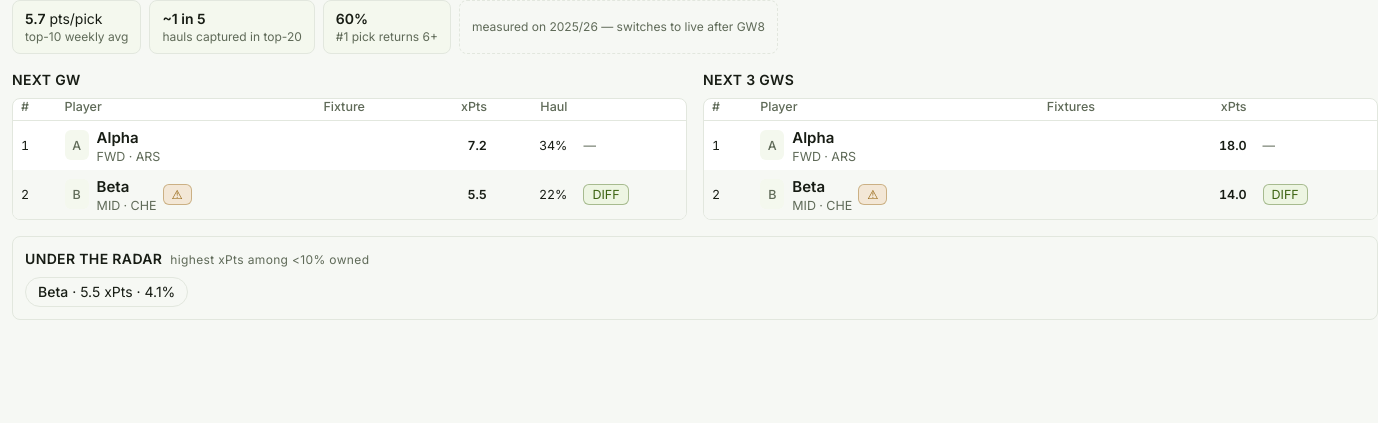
Test: WeeklyPicksTab — PICK-02 expand explains › expanded row in Next GW table contains the PickExplain block (reasons visible)
This screenshot has width=1378, height=423.
// Click the first occurrence (Next GW table)
Click the text "Alpha" at (118, 138), box [13,120,686,170]
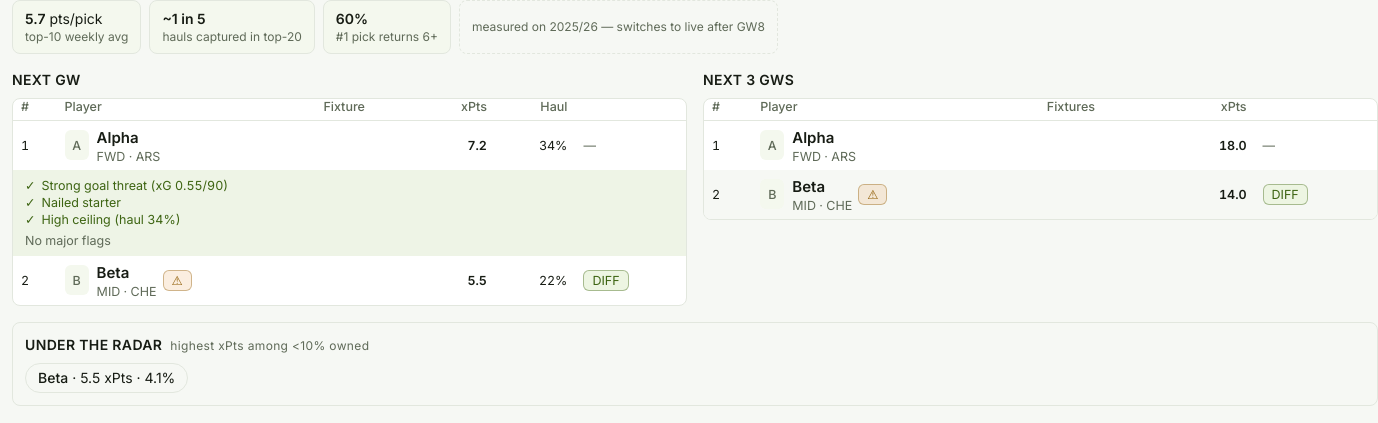
Check: the text "Strong goal threat (xG 0.55/90)" is shown, box [42,178,228,193]
